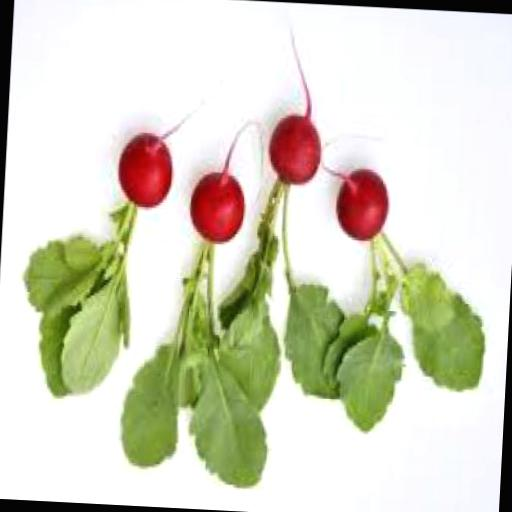biodegradable: (119, 123, 285, 488), (217, 28, 363, 402), (19, 109, 178, 402), (310, 160, 492, 394)
